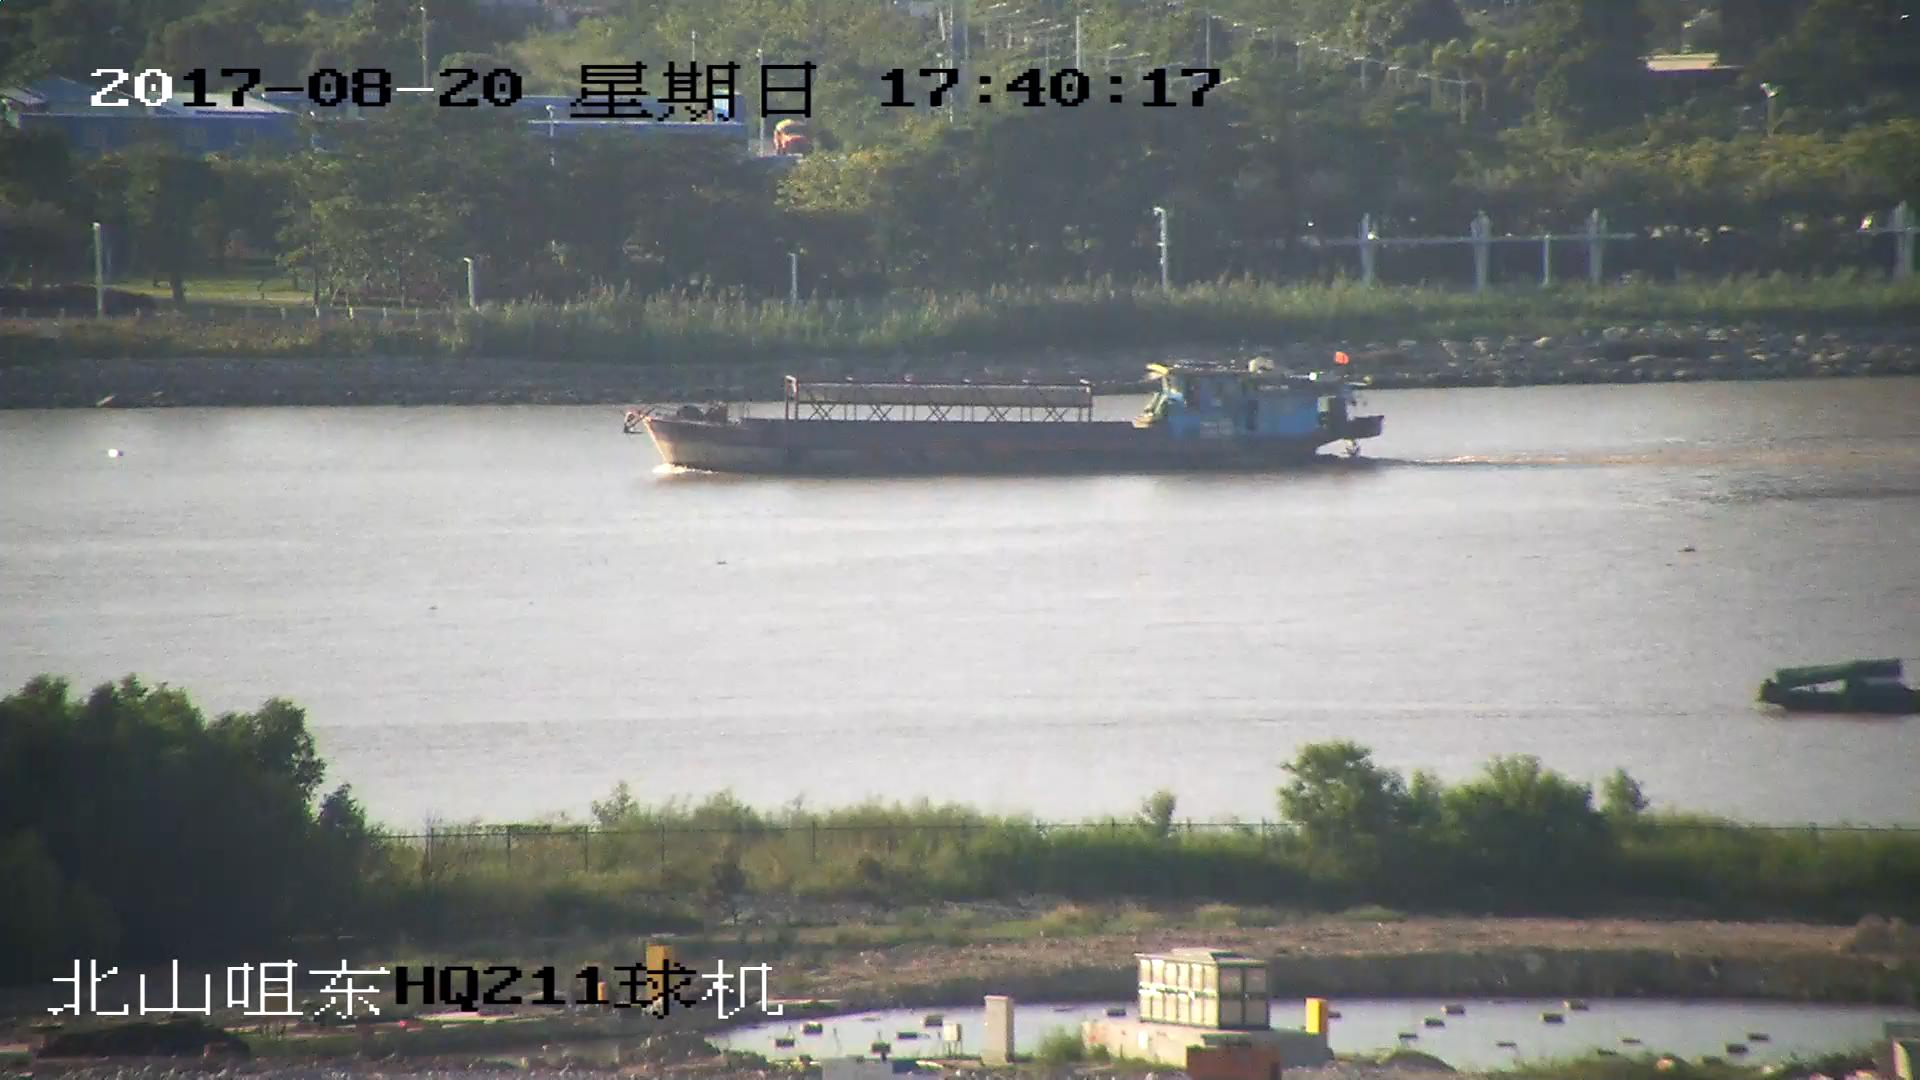fishing boat: (628, 356, 1392, 479), (1764, 658, 1920, 719)
